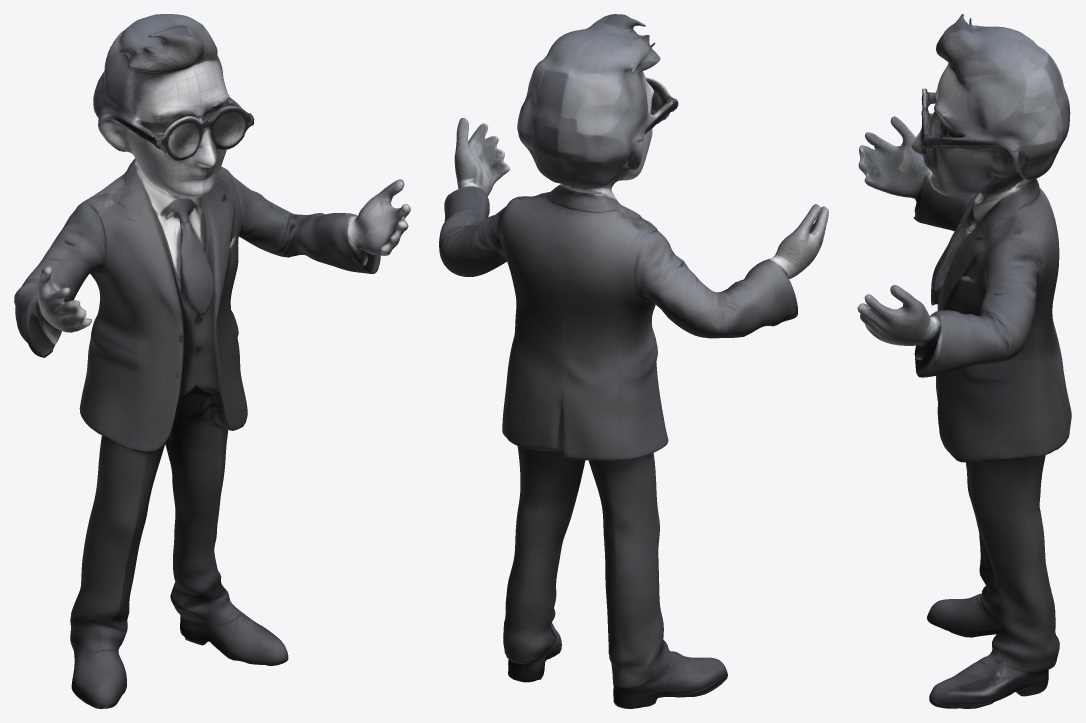
Rendered from Schroedinger-talking-pose.glb.
3 renders of one model, left to right at view 1: azimuth 30°, elevation 25°; view 2: azimuth 150°, elevation 25°; view 3: azimuth 270°, elevation 25°, orthographic.
Bounding box in the file's own units: 1.16 × 2 × 0.6082.
Materials: 1 (1 with a texture image).
